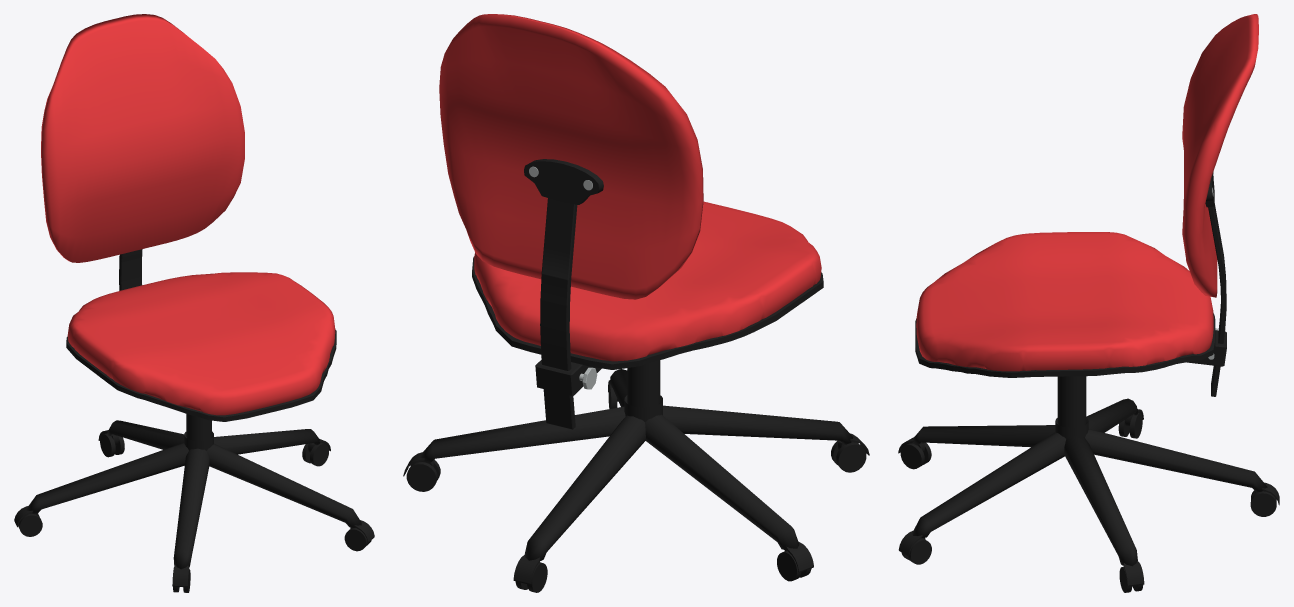
Rendered from Chair_BlenderScale2.fbx.
The picture shows the model from 3 angles, left to right: view 1: azimuth 30°, elevation 25°; view 2: azimuth 150°, elevation 25°; view 3: azimuth 270°, elevation 25°; orthographic projection. The views are drawn at different scales.
Parts seen in each view (by area): view 1: pCylinder17.003; view 2: pCylinder17.003; view 3: pCylinder17.003.
Boxes of the visible parts, box(x1,y1,x2,y2) form: pCylinder17.003: box(14, 14, 374, 592); pCylinder17.003: box(403, 14, 869, 592); pCylinder17.003: box(898, 14, 1279, 592).
Size of the model in its own units: 65.75 by 87.54 by 62.59.
